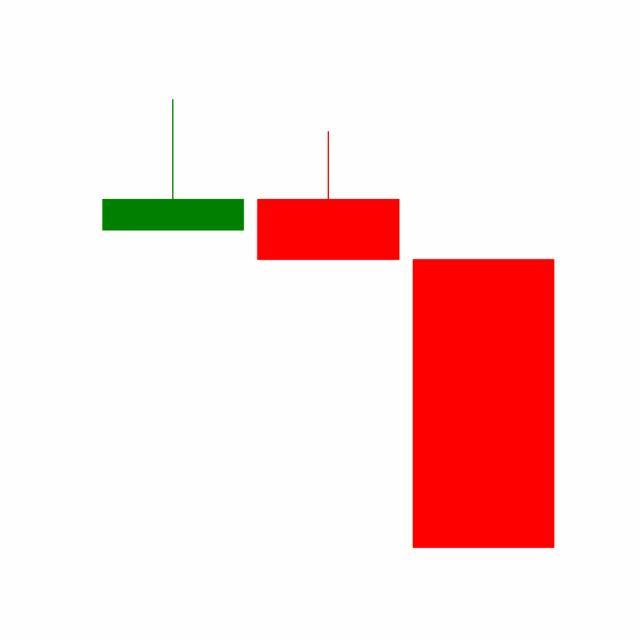Marubozu: (406, 256, 562, 552)
